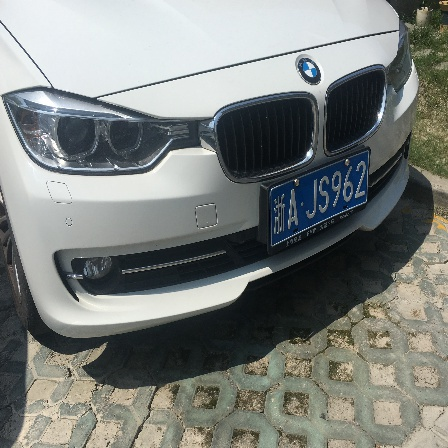plate: (268, 150, 373, 242)
